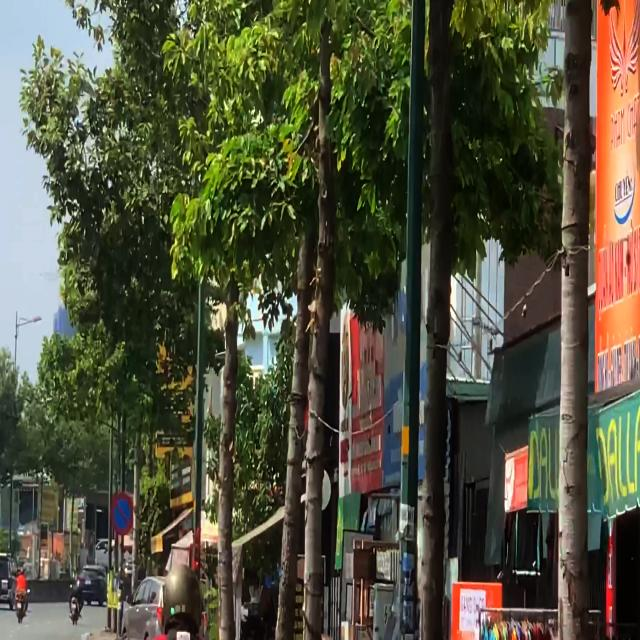Cam do: (110, 492, 133, 536)
